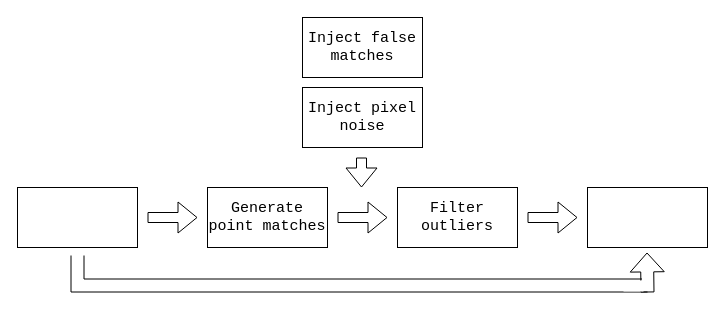
Some shapes in this 725 by 310 pixel diagram are drawn without their labels. The shapes that lost their labels are listed below. From the top down, each one's box as (x1, y1, x2, y2) in pixels, then its label:
(16, 186, 138, 248): Define rotation amplitude
(586, 186, 708, 248): Compute Error
